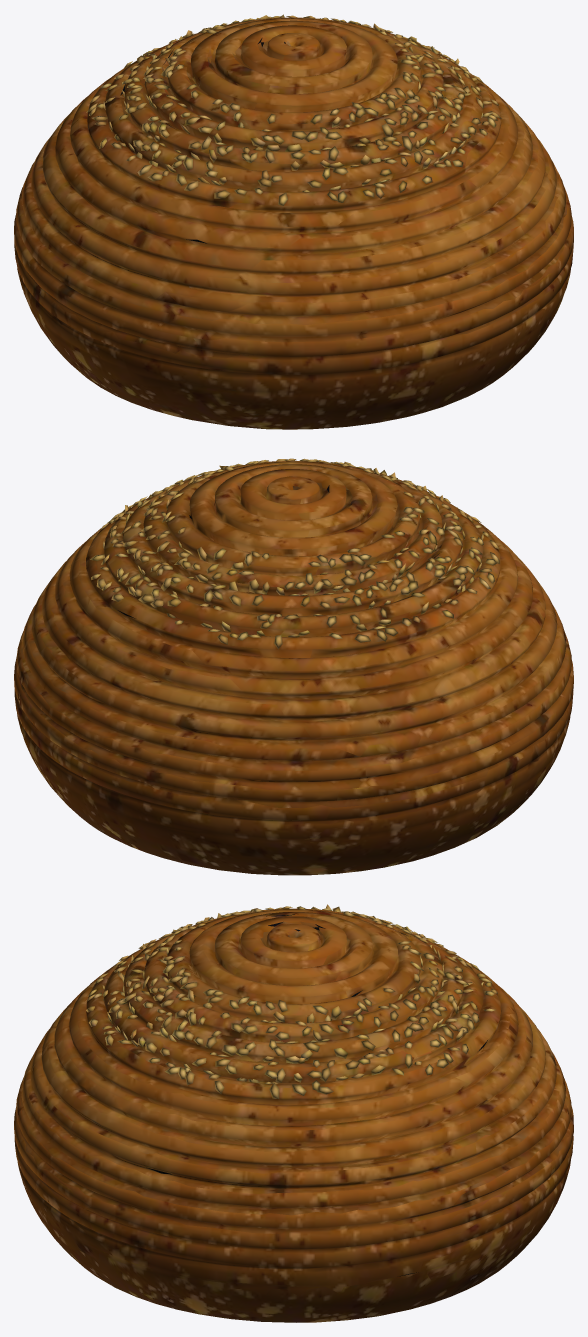
File: wholewheat--flaxseed-seed.glb
3 renders of one model, top to bottom at view 1: azimuth 30°, elevation 25°; view 2: azimuth 150°, elevation 25°; view 3: azimuth 270°, elevation 25°, orthographic.
Parts seen in each view (by area): view 1: wholewheat_flaxseed-seed; view 2: wholewheat_flaxseed-seed; view 3: wholewheat_flaxseed-seed.
Boxes of the visible parts, x1=… form: wholewheat_flaxseed-seed: x1=14, y1=14, x2=573, y2=429; wholewheat_flaxseed-seed: x1=14, y1=458, x2=573, y2=875; wholewheat_flaxseed-seed: x1=14, y1=904, x2=573, y2=1322.
Size of the model in its own units: 1 by 0.5692 by 0.998.
Materials: 1 (1 with a texture image).
